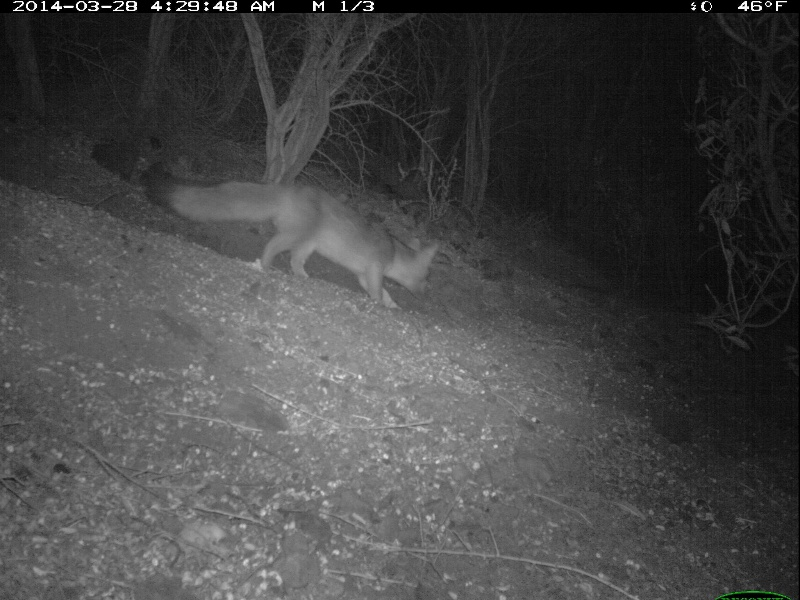coyote: (152, 152, 437, 314)
